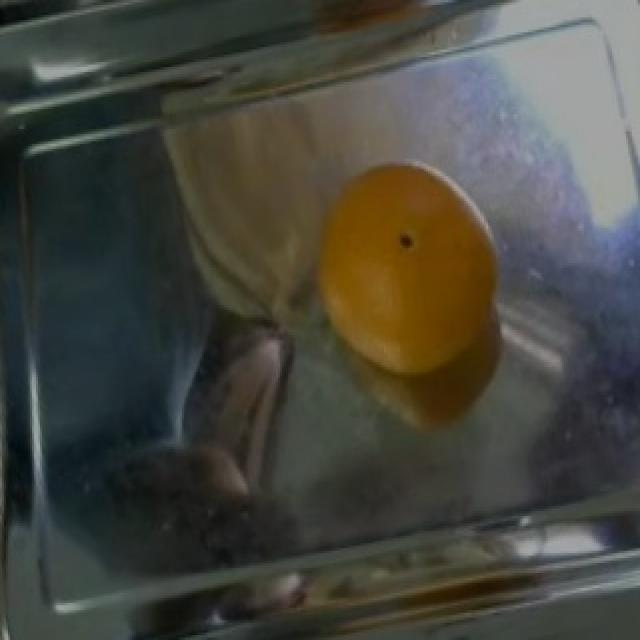Fruit: (292, 139, 520, 429)
